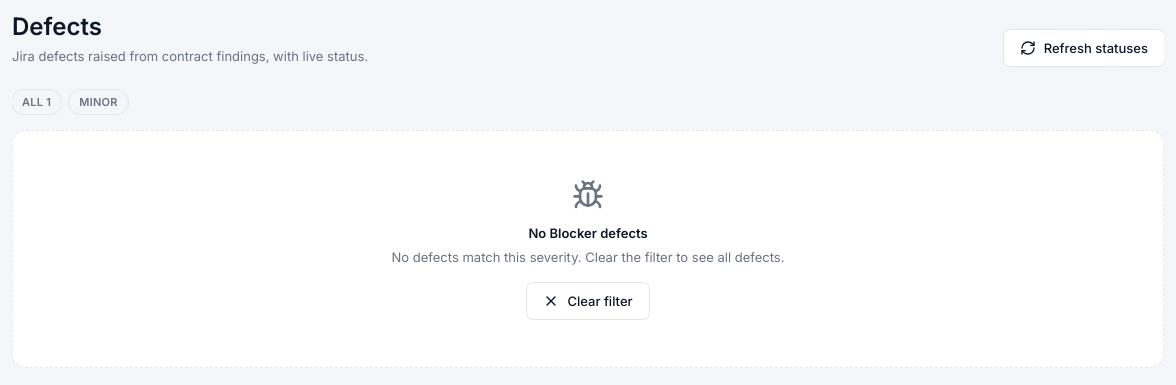
Test: Defects page › honours the ?severity= URL param and clears it from the empty state
Expected: the text "No Blocker defects" is shown, [528,223,648,243]
What coordinates should you click on to do the following:
click the button "Clear filter"
I would click on:
 (588, 301)
Its box is [527,283,648,319].
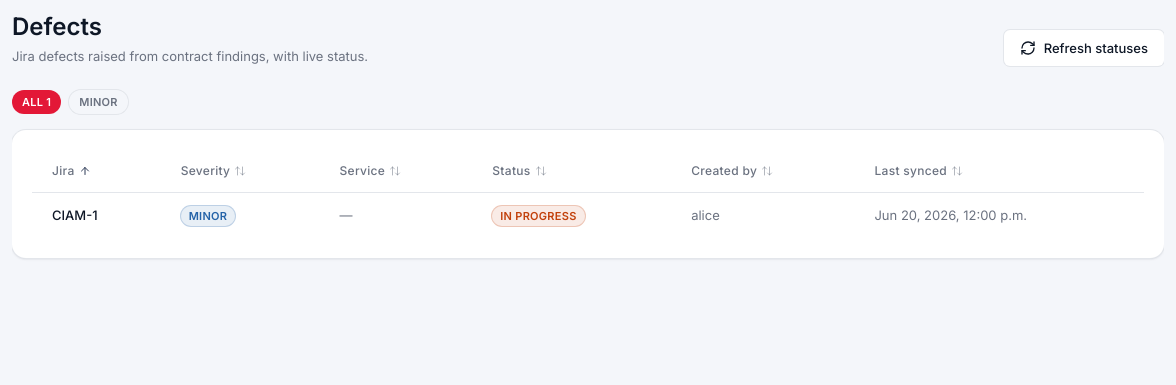
Now the text "CIAM-1" is shown, box [32,192,161,238]
